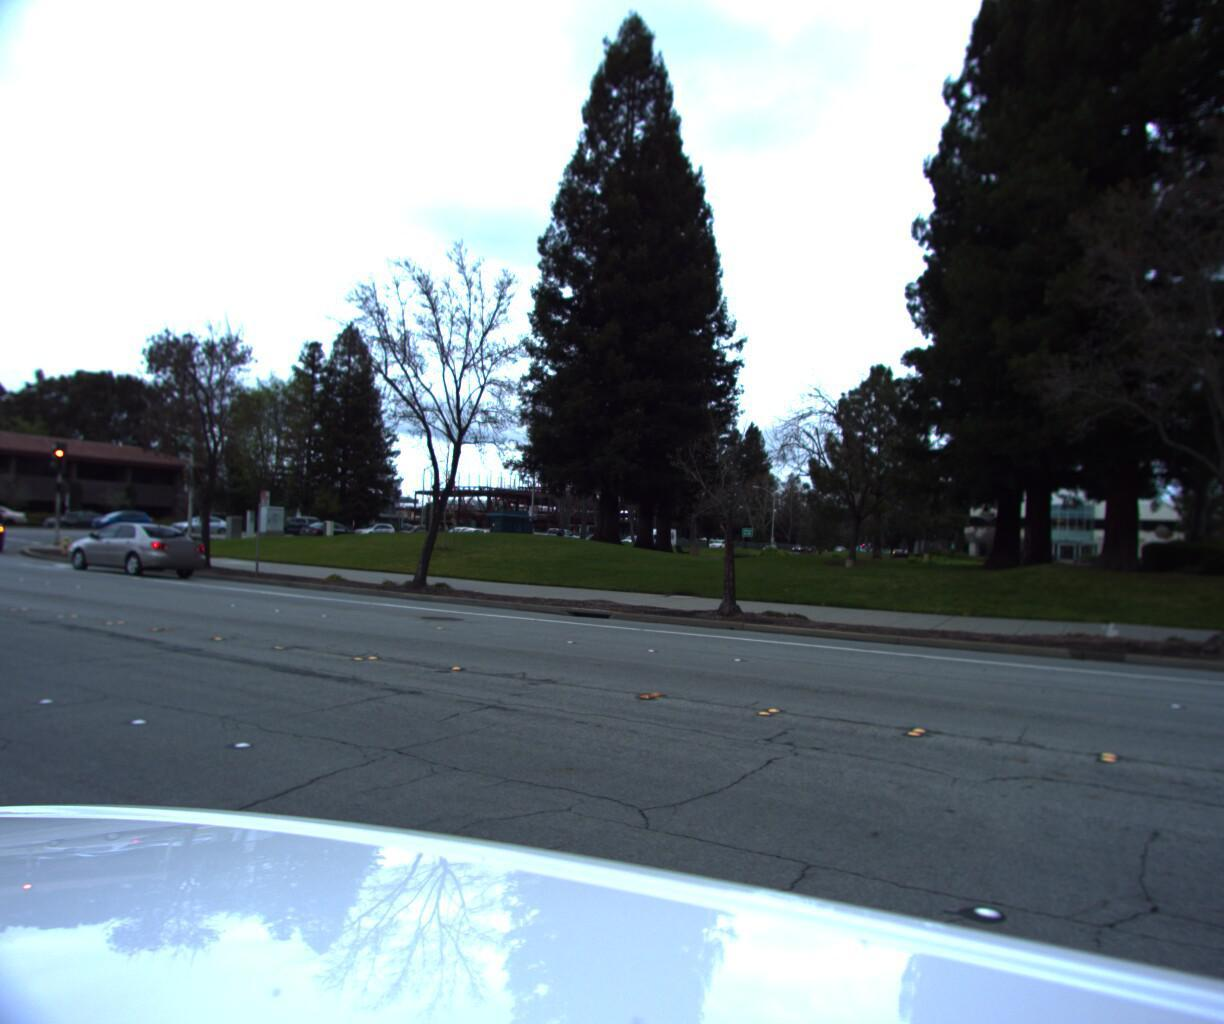car: (61, 526, 212, 585), (83, 511, 160, 536), (40, 513, 118, 535), (162, 516, 237, 538), (347, 522, 402, 542), (0, 506, 34, 535), (452, 527, 494, 543), (0, 503, 12, 534), (0, 515, 6, 557)
